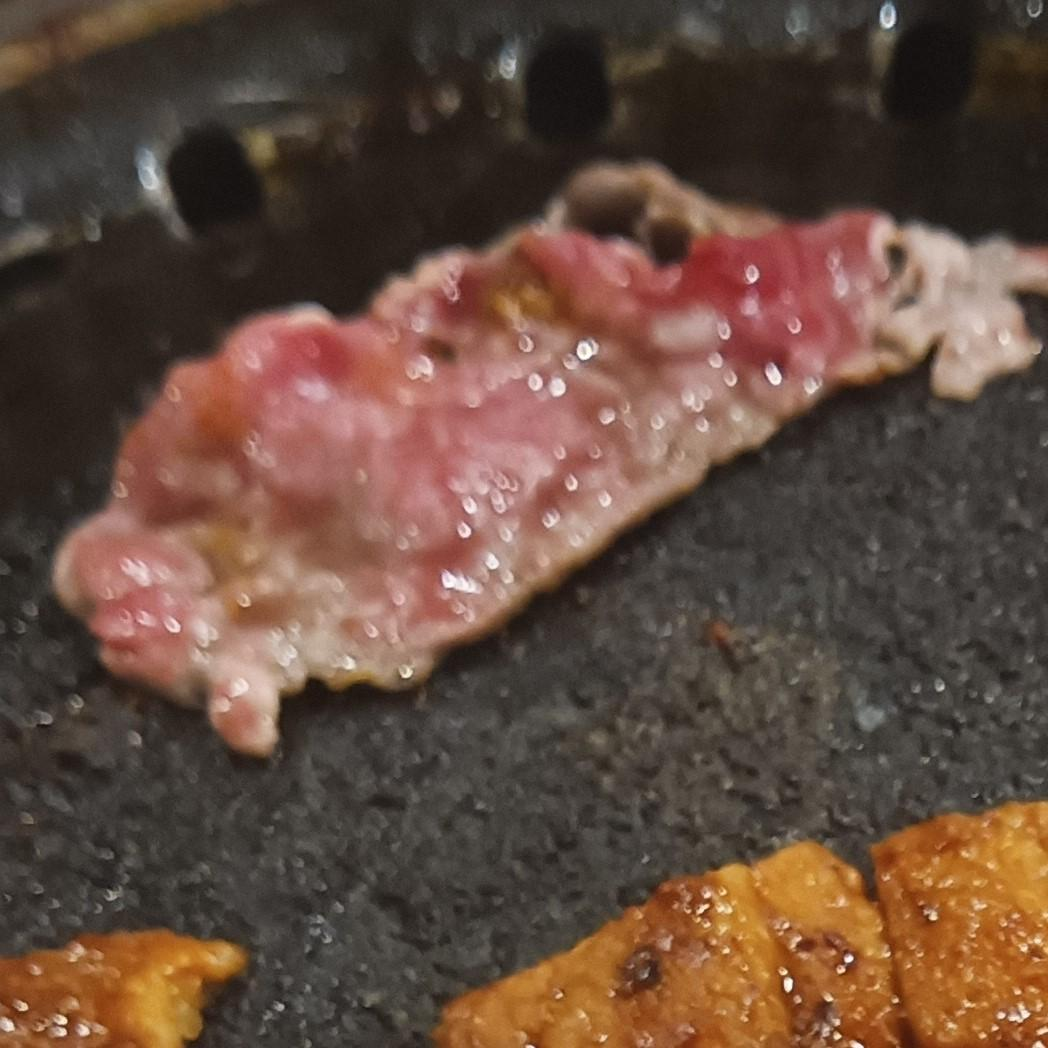Undercooked: (52, 162, 1047, 755)
Well-Cooked: (435, 842, 910, 1047), (871, 802, 1047, 1047), (0, 931, 249, 1047)
